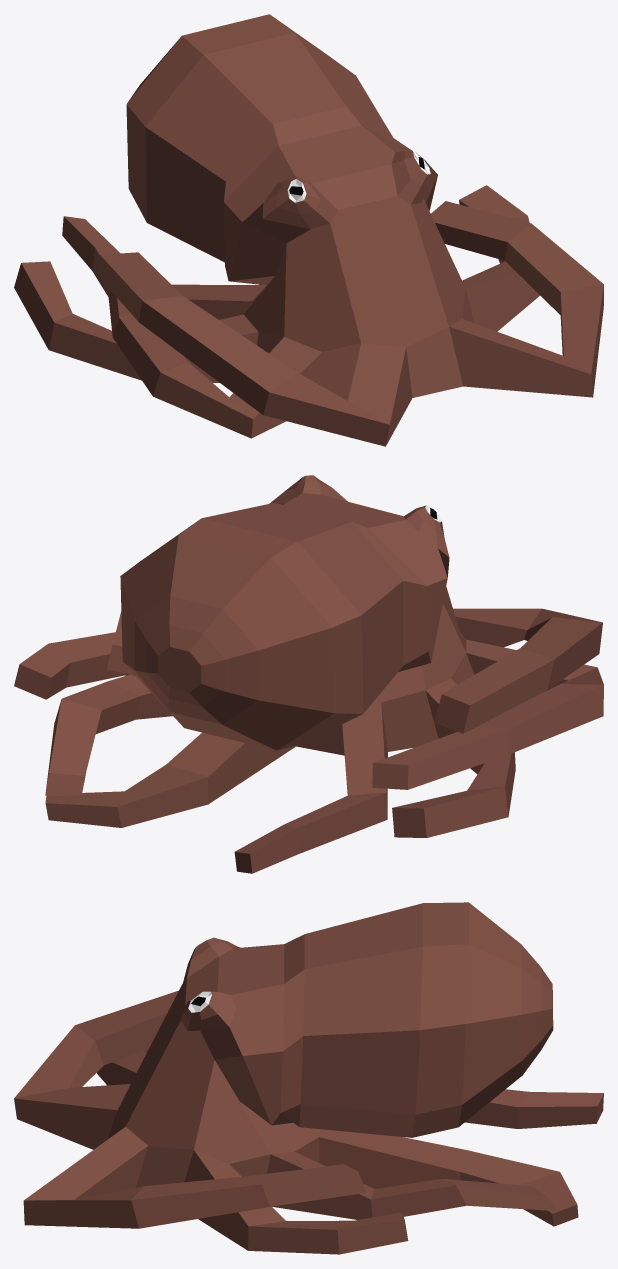
The model's file is OctopusRaw.glb.
The picture shows the model from 3 angles, top to bottom: view 1: azimuth 30°, elevation 25°; view 2: azimuth 150°, elevation 25°; view 3: azimuth 270°, elevation 25°; orthographic projection. The views are drawn at different scales.
Visible parts, largest first — view 1: EXPORT_octopus; view 2: EXPORT_octopus; view 3: EXPORT_octopus.
Boxes of the visible parts, x1,y1,x2,y2 form: EXPORT_octopus: [14, 14, 603, 446]; EXPORT_octopus: [14, 475, 603, 873]; EXPORT_octopus: [14, 902, 603, 1254].
Size of the model in its own units: 0.7286 by 0.382 by 0.825.
